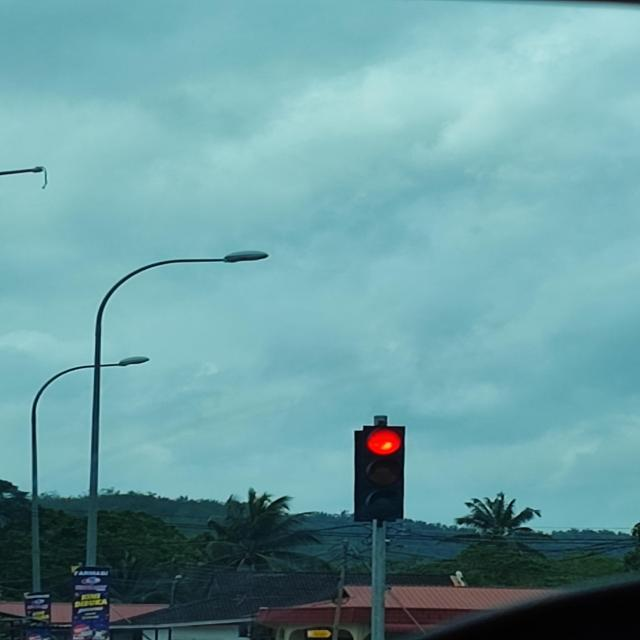Red: (360, 426, 408, 519)
